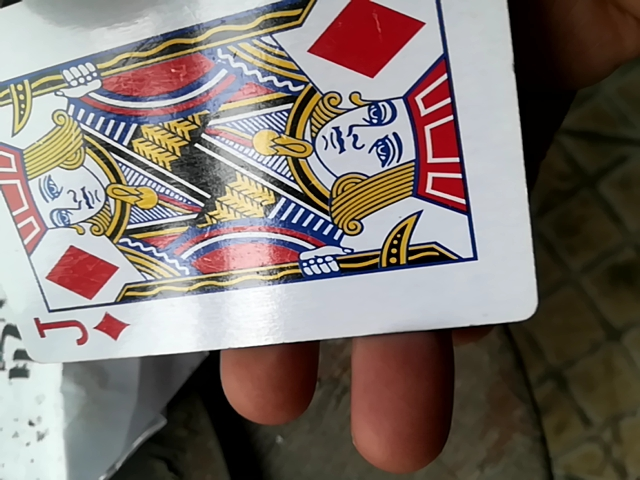fk j: (0, 0, 541, 368)
